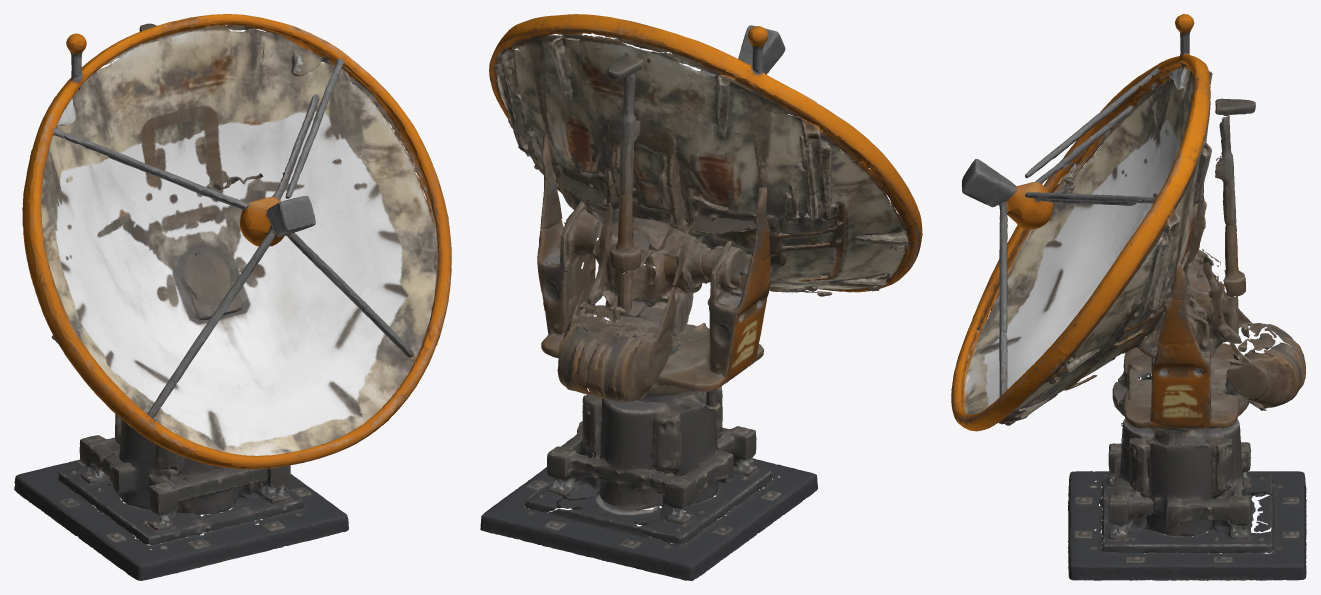
Rendered from tracking-signal-dish-final.glb.
The picture shows the model from 3 angles, left to right: view 1: azimuth 30°, elevation 25°; view 2: azimuth 150°, elevation 25°; view 3: azimuth 270°, elevation 25°; orthographic projection. The views are drawn at different scales.
Visible parts, largest first — view 1: DishAssembly_Group_05f054, DishAssembly_Group_2513ca, Pedestal_Group_6553e0, Pedestal_Group_5914d3, StaticBody_993dbb, DishAssembly_Group_b3a8cb, AzimuthYoke_Group_20c91e; view 2: DishAssembly_Group_05f054, Pedestal_Group_6553e0, Pedestal_Group_5914d3, DishAssembly_Group_2513ca, StaticBody_ea9cf1, DishAssembly_Group_937a3e, DishAssembly_Group_b3a8cb, AzimuthYoke_Group_575b75, SupportHardware_Group_127f62, SupportHardware_Group_4e17f4, AzimuthYoke_Group_20c91e, AzimuthYoke_Group_03b4c6; view 3: DishAssembly_Group_05f054, Pedestal_Group_6553e0, DishAssembly_Group_2513ca, Pedestal_Group_5914d3, StaticBody_ea9cf1, DishAssembly_Group_b3a8cb, AzimuthYoke_Group_575b75, DishAssembly_Group_937a3e, StaticBody_993dbb, SupportHardware_Group_127f62, AzimuthYoke_Group_03b4c6, SupportHardware_Group_4e17f4 (+1 smaller).
Part boxes in pixels (bbox=[...]): DishAssembly_Group_05f054: bbox=[31, 23, 435, 469]; DishAssembly_Group_2513ca: bbox=[22, 14, 451, 457]; Pedestal_Group_6553e0: bbox=[58, 414, 303, 544]; Pedestal_Group_5914d3: bbox=[14, 459, 348, 580]; StaticBody_993dbb: bbox=[63, 72, 413, 418]; DishAssembly_Group_b3a8cb: bbox=[271, 196, 315, 235]; AzimuthYoke_Group_20c91e: bbox=[66, 33, 86, 79]; DishAssembly_Group_05f054: bbox=[494, 35, 909, 292]; Pedestal_Group_6553e0: bbox=[524, 340, 772, 544]; Pedestal_Group_5914d3: bbox=[480, 458, 817, 580]; DishAssembly_Group_2513ca: bbox=[489, 14, 922, 288]; StaticBody_ea9cf1: bbox=[537, 201, 772, 400]; DishAssembly_Group_937a3e: bbox=[542, 134, 832, 336]; DishAssembly_Group_b3a8cb: bbox=[557, 25, 785, 402]; AzimuthYoke_Group_575b75: bbox=[541, 305, 763, 410]; SupportHardware_Group_127f62: bbox=[619, 73, 640, 194]; SupportHardware_Group_4e17f4: bbox=[609, 192, 641, 321]; AzimuthYoke_Group_20c91e: bbox=[748, 26, 770, 260]; AzimuthYoke_Group_03b4c6: bbox=[540, 172, 636, 337]; DishAssembly_Group_05f054: bbox=[951, 71, 1255, 430]; Pedestal_Group_6553e0: bbox=[1100, 381, 1273, 553]; DishAssembly_Group_2513ca: bbox=[963, 52, 1210, 431]; Pedestal_Group_5914d3: bbox=[1068, 374, 1306, 580]; StaticBody_ea9cf1: bbox=[1138, 249, 1266, 428]; DishAssembly_Group_b3a8cb: bbox=[961, 159, 1305, 408]; AzimuthYoke_Group_575b75: bbox=[1118, 343, 1245, 430]; DishAssembly_Group_937a3e: bbox=[1160, 249, 1275, 357]; StaticBody_993dbb: bbox=[999, 73, 1151, 396]; SupportHardware_Group_127f62: bbox=[1122, 114, 1236, 491]; AzimuthYoke_Group_03b4c6: bbox=[1138, 298, 1226, 388]; SupportHardware_Group_4e17f4: bbox=[1223, 224, 1249, 338].
Bounding box in the file's own units: 1.68 × 2 × 1.37.
Materials: 1 (1 with a texture image).
